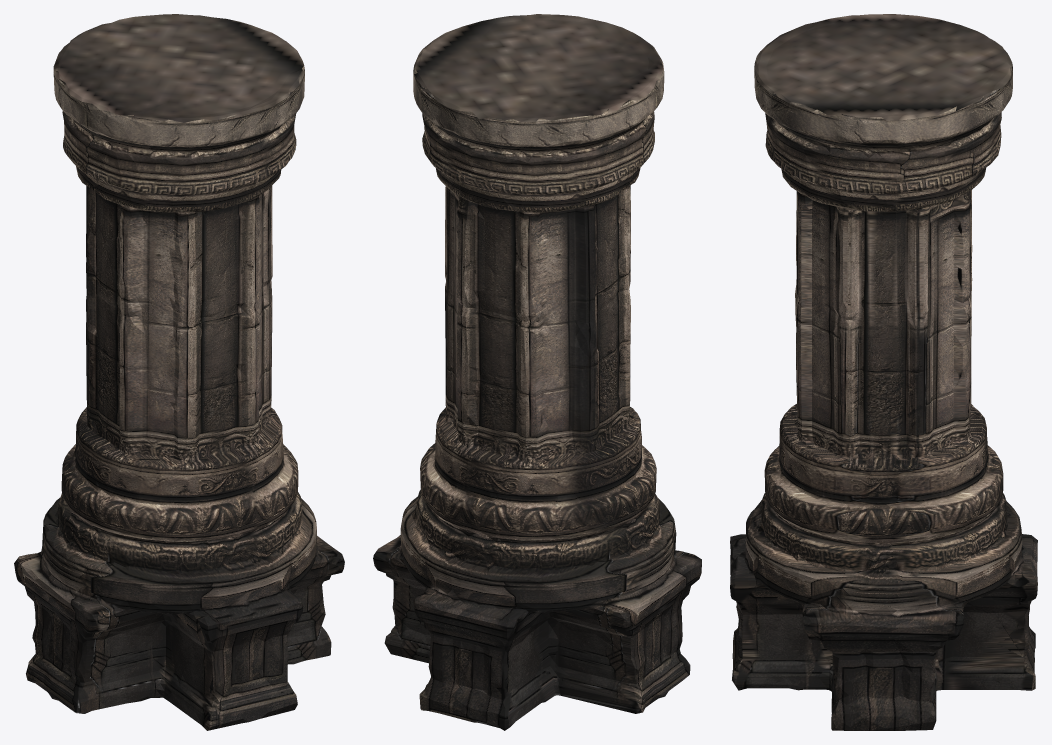
The model's file is HC_STHall_Wallcolumn_04.fbx.
3 views of the same model, side by side, from view 1: azimuth 30°, elevation 25°; view 2: azimuth 150°, elevation 25°; view 3: azimuth 270°, elevation 25° (orthographic).
Visible parts, largest first — view 1: HC_STHall_Wallcolumn_04; view 2: HC_STHall_Wallcolumn_04; view 3: HC_STHall_Wallcolumn_04.
Boxes of the visible parts, bbox=[...] form: HC_STHall_Wallcolumn_04: bbox=[14, 14, 344, 730]; HC_STHall_Wallcolumn_04: bbox=[373, 14, 701, 730]; HC_STHall_Wallcolumn_04: bbox=[730, 14, 1037, 730].
Bounding box in the file's own units: 0.8844 × 0.9115 × 1.98.
